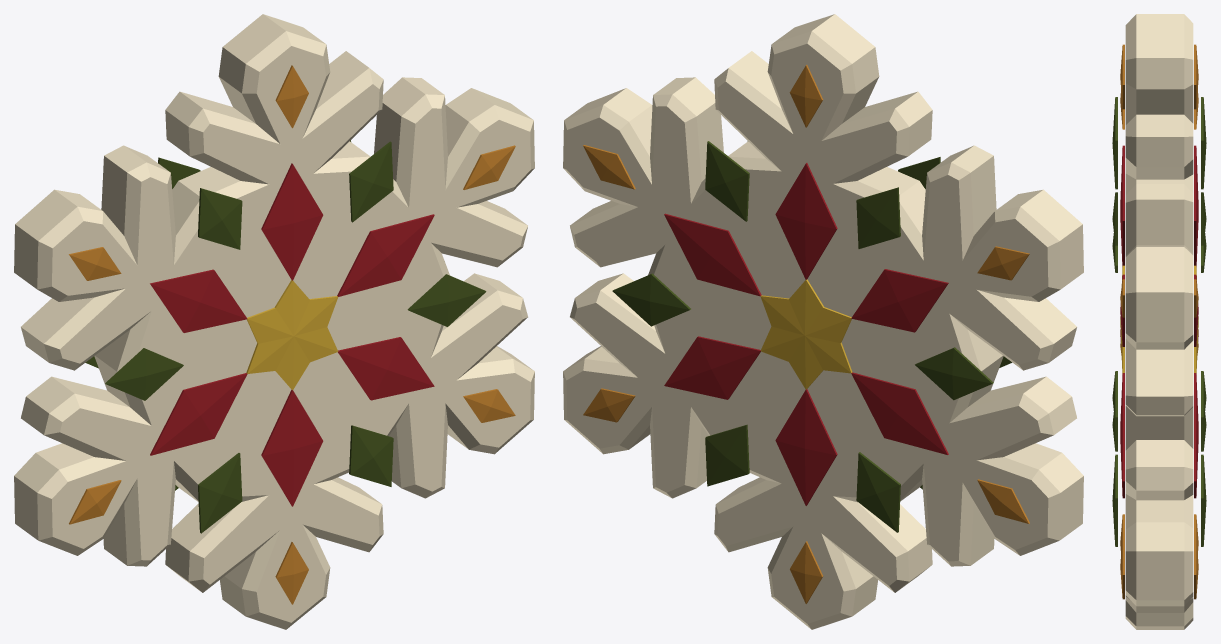
The model's file is 27 White Snowflake Decoration.glb.
3 views of the same model, side by side, from view 1: azimuth 30°, elevation 25°; view 2: azimuth 150°, elevation 25°; view 3: azimuth 270°, elevation 25° (orthographic). The views are drawn at different scales.
Visible parts, largest first — view 1: Amber tip diamond 2 1; view 2: Amber tip diamond 2 1; view 3: Amber tip diamond 2 1.
Part boxes in pixels (x1=…): Amber tip diamond 2 1: x1=14, y1=14, x2=534, y2=629; Amber tip diamond 2 1: x1=563, y1=14, x2=1083, y2=629; Amber tip diamond 2 1: x1=1112, y1=14, x2=1206, y2=629.
Size of the model in its own units: 3.83 by 4.4 by 0.6089.
